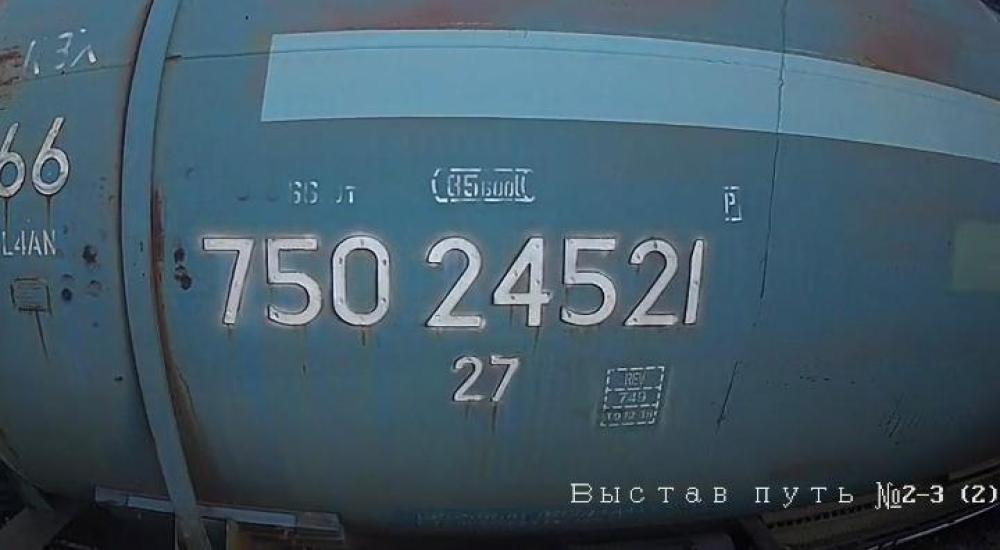Wagon-number: (198, 230, 715, 338)
